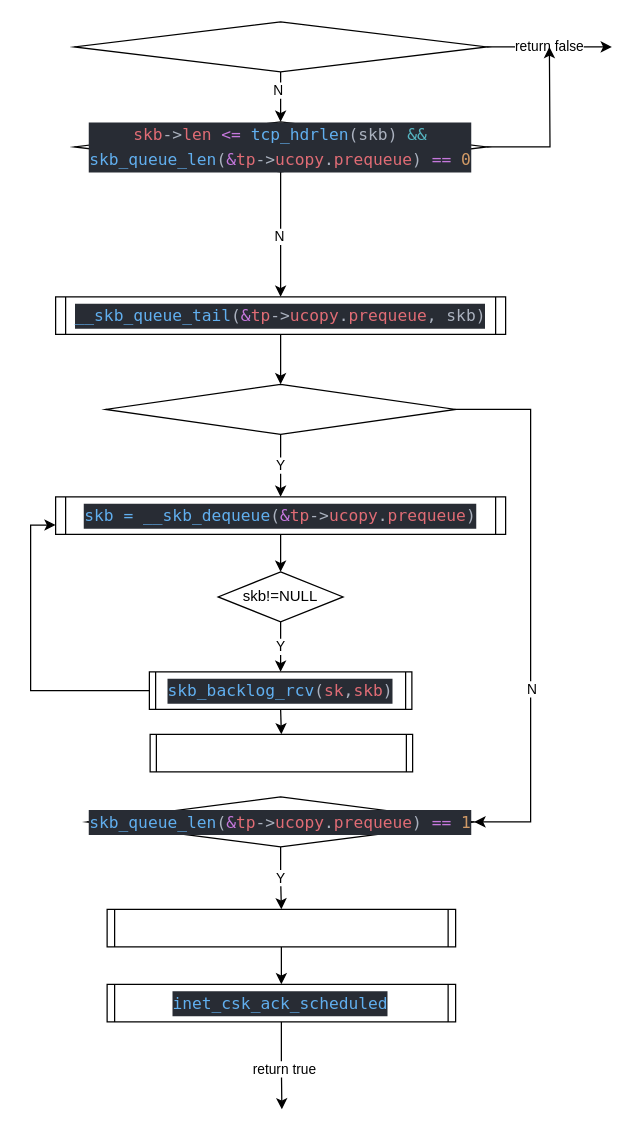
This 644x1141 diagram has some shape labels left out. The shapes that lost their labels are listed below. From the top down, each one's box as (x1, y1, x2, y2) in pixels, then its label:
(73, 21, 487, 72): sysctl_tcp_low_latency || ! tp -> ucopy . task
(104, 383, 456, 434): tp -> ucopy . memory > sk -> sk_rcvbuf
(149, 733, 413, 772): tcp_v4_do_rcv ( sk , skb )
(106, 908, 456, 947): wake_up_interruptible_sync_poll
